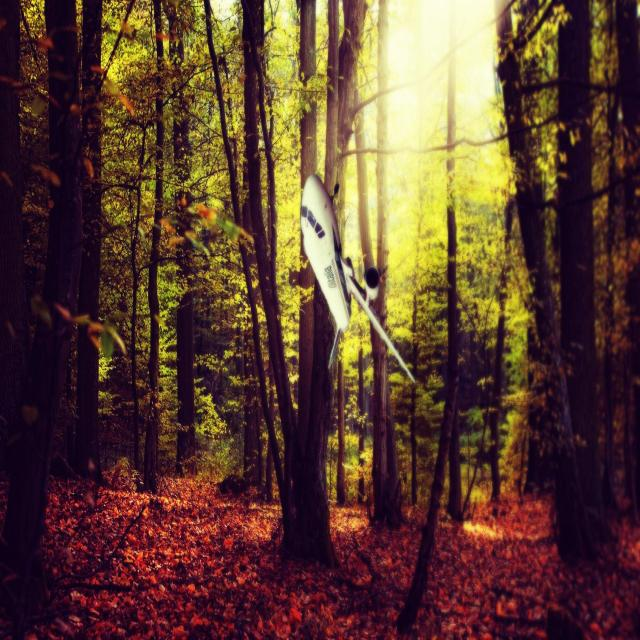airplane: (299, 172, 416, 386)
